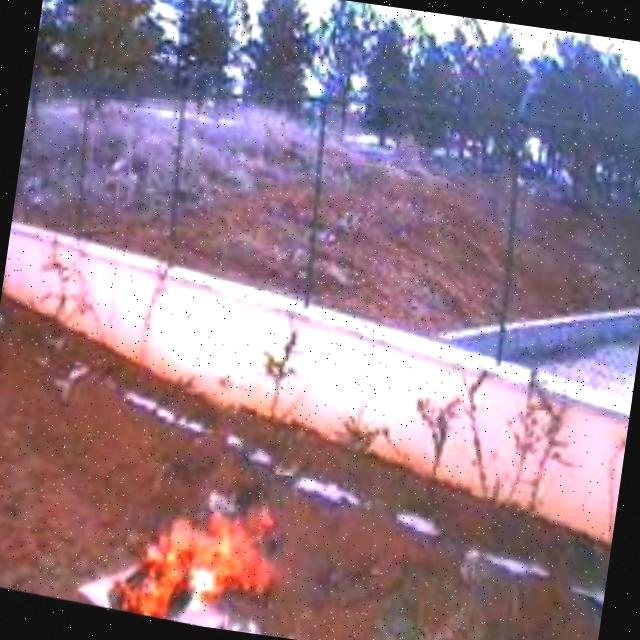fire: (97, 483, 291, 637)
